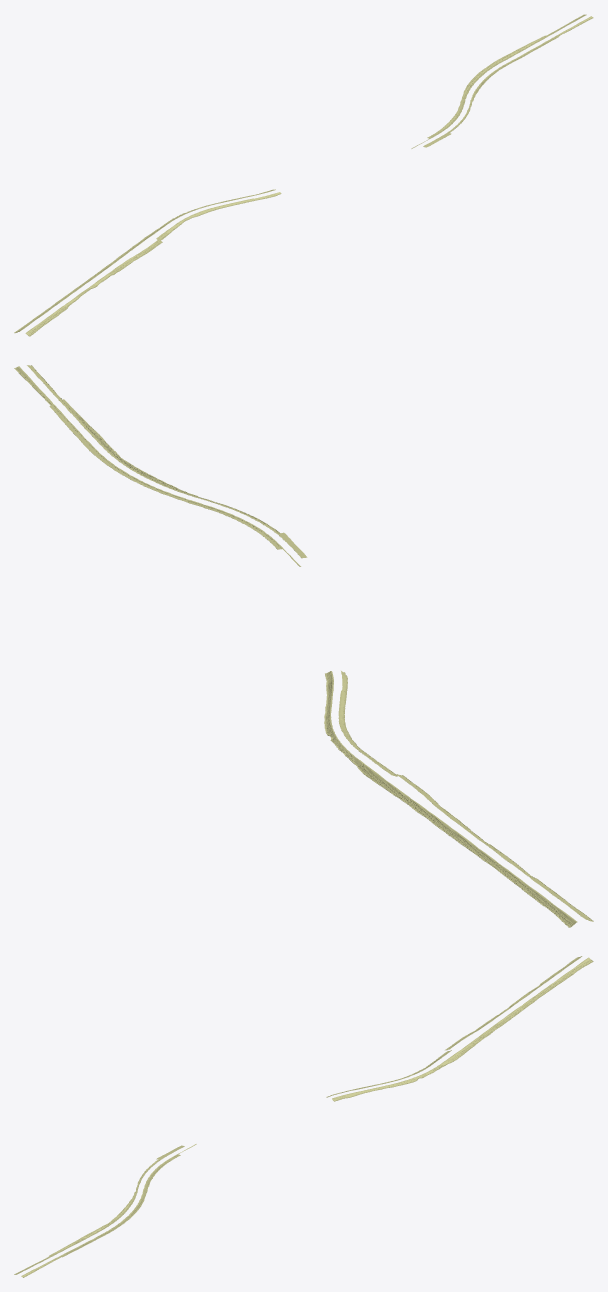
The picture shows the model from 3 angles, top to bottom: view 1: azimuth 90°, elevation 25°; view 2: azimuth 150°, elevation 25°; view 3: azimuth 270°, elevation 25°; orthographic projection. The views are drawn at different scales.
Bounding box in the file's own units: 1240 × 5.86 × 946.
